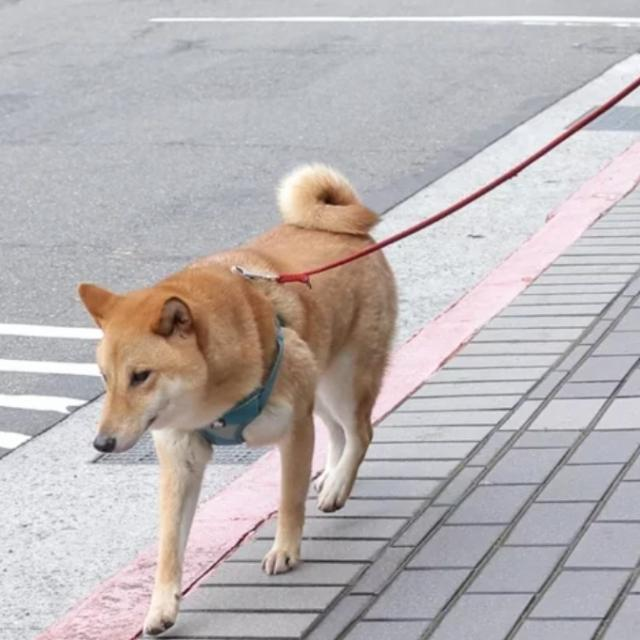dogs: (73, 163, 402, 640)
